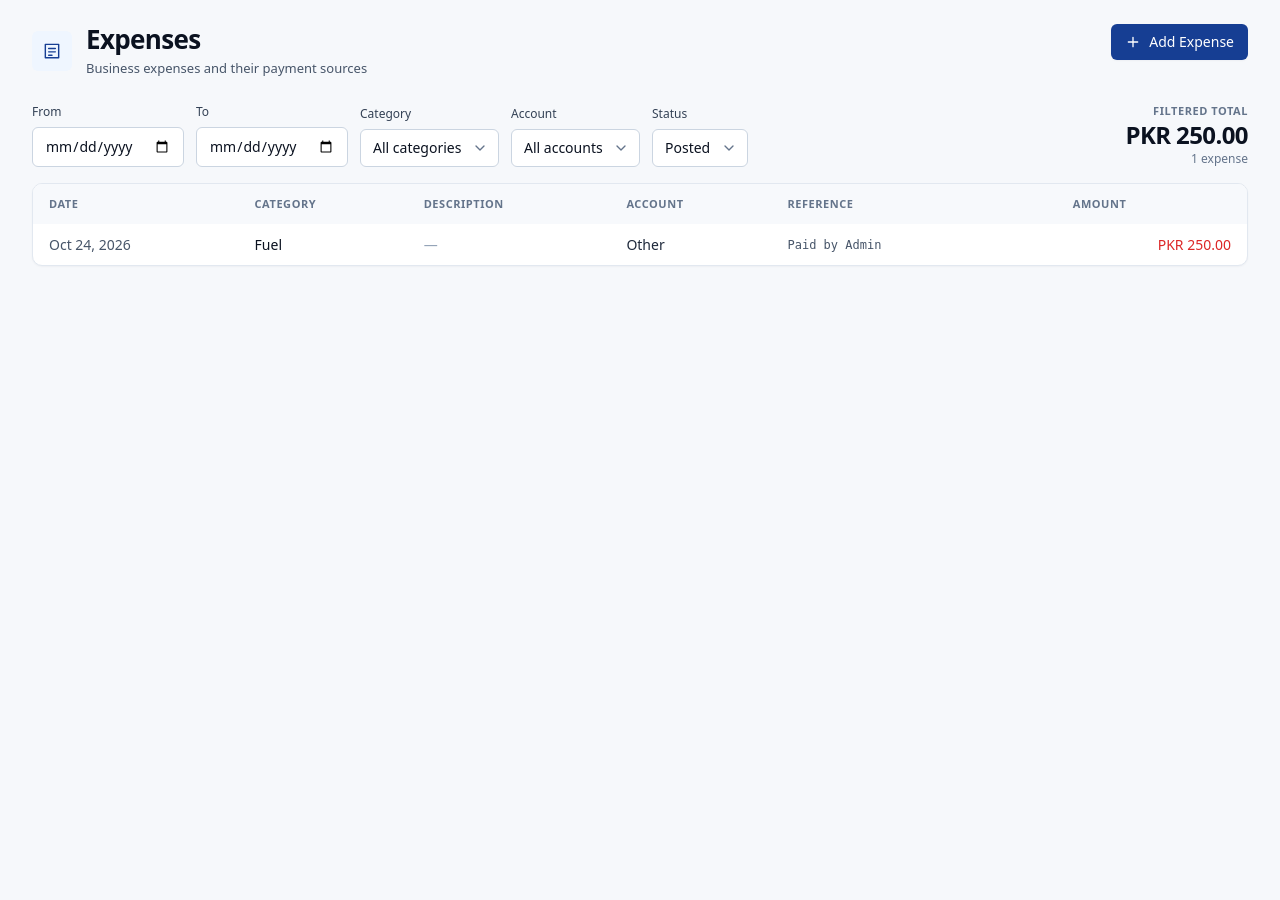
Other expense payment source › shows Other and the reference in existing expense details and uses accurate void wording
This screenshot has width=1280, height=900.
Step 1. Click the cell "Paid by Admin" → click(834, 245), box [772,224,999,265]
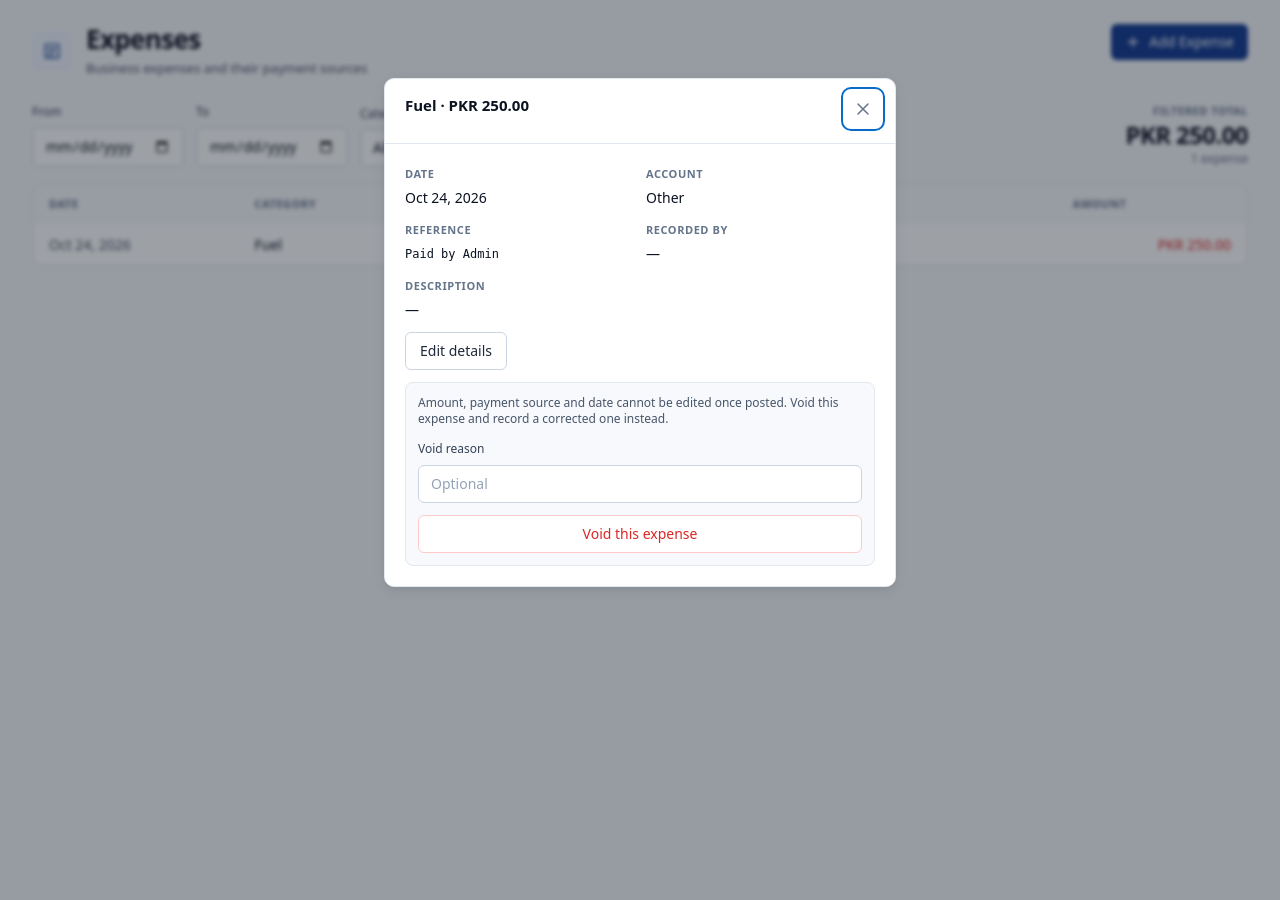
Expected: the dialog shows "Other", [646,188,684,207]
Expected: the dialog shows "Paid by Admin", [405,247,499,261]
Expected: the dialog shows "Void this expense"
Step 2. Click the button "Void this expense" → click(640, 534), box [418,515,862,553]
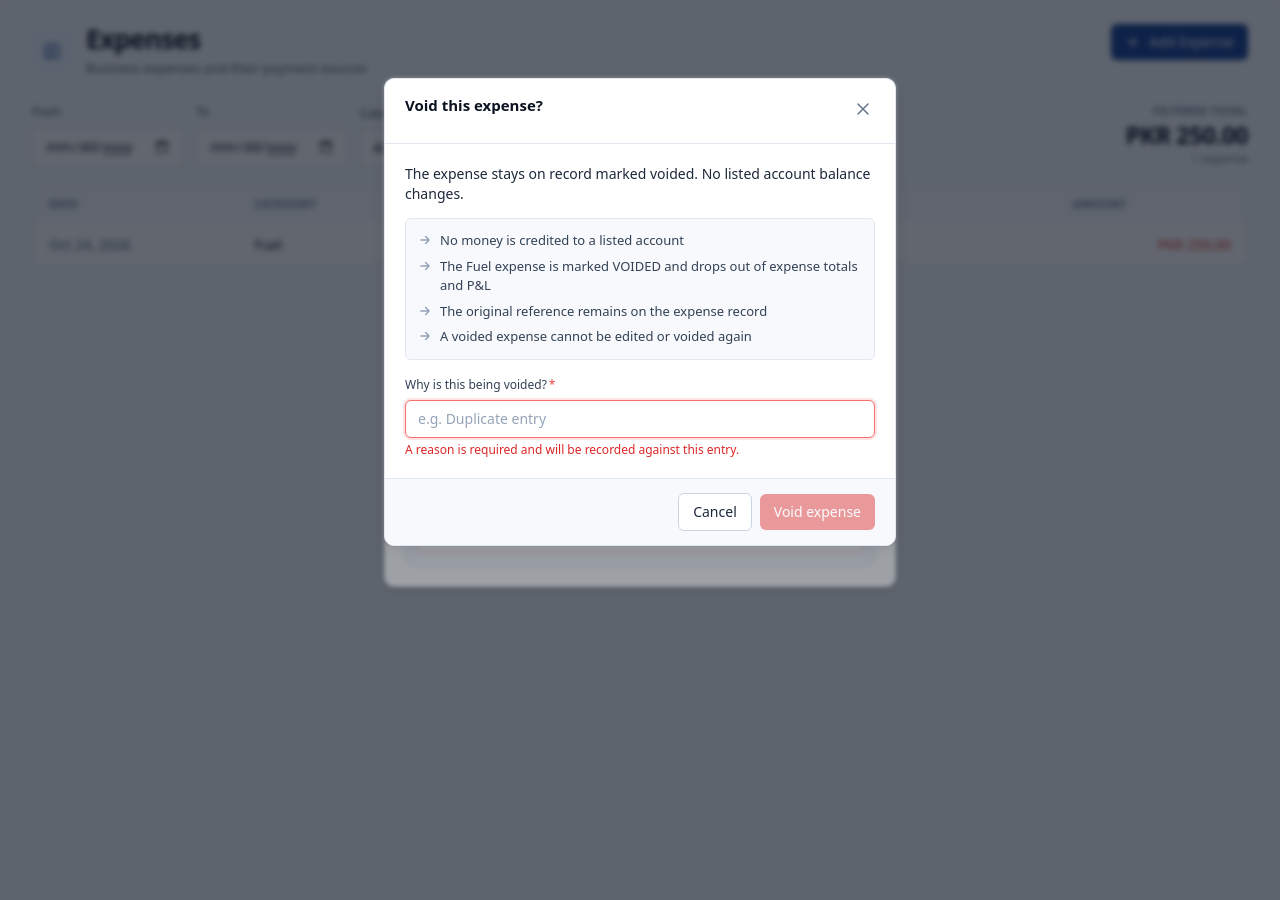
Expected: the text "No listed account balance changes" is shown, [405,164,870,203]
